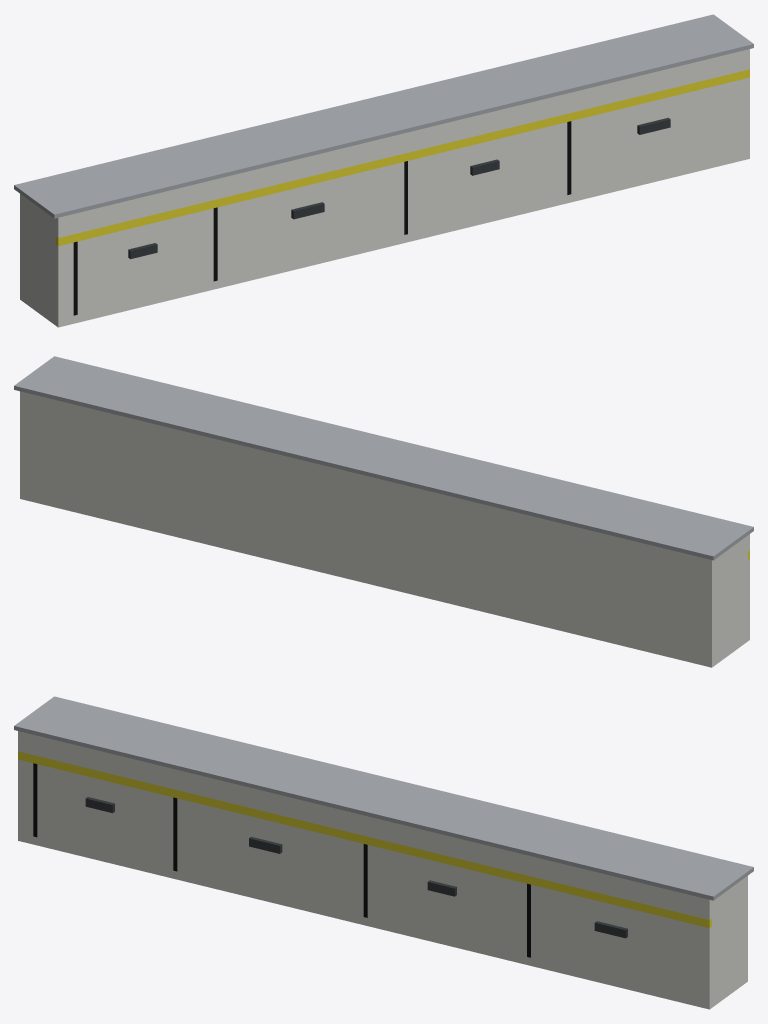
File: bucket_truck_locker.glb
The picture shows the model from 3 angles, top to bottom: view 1: azimuth 30°, elevation 25°; view 2: azimuth 150°, elevation 25°; view 3: azimuth 330°, elevation 25°; orthographic projection.
Parts seen in each view (by area): view 1: body:compound; view 2: body:compound; view 3: body:compound.
Part boxes in pixels (x1,y1,x2,y2): body:compound: (14,14,753,327); body:compound: (14,356,753,667); body:compound: (14,696,753,1009).
Size of the model in its own units: 5.62 by 0.875 by 0.5938.
